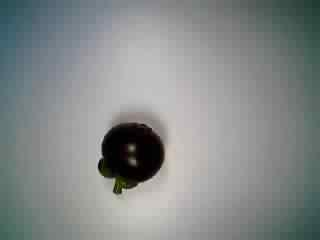mangosteen: (91, 118, 168, 194)
